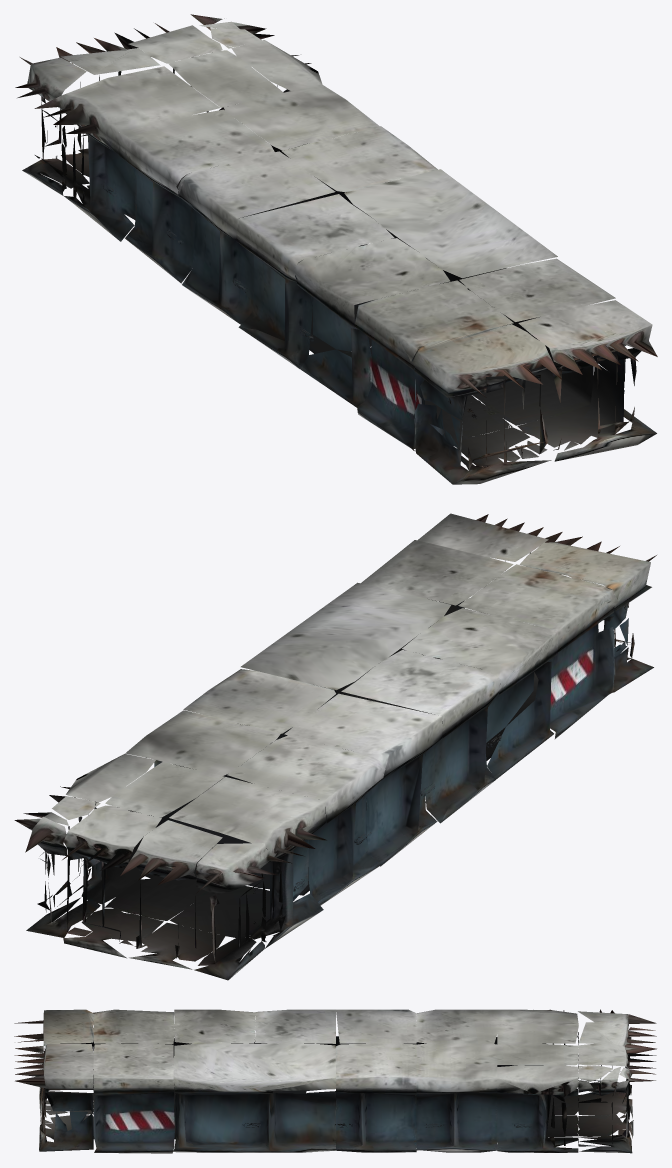
The model's file is crate.glb.
3 renders of one model, top to bottom at view 1: azimuth 30°, elevation 25°; view 2: azimuth 150°, elevation 25°; view 3: azimuth 270°, elevation 25°, orthographic. The views are drawn at different scales.
Visible parts, largest first — view 1: Mesh; view 2: Mesh; view 3: Mesh.
Boxes of the visible parts, x1,y1,x2,y2 form: Mesh: (15,14,657,484); Mesh: (14,513,656,980); Mesh: (14,1009,656,1153).
Bounding box in the file's own units: 2.09 × 0.9 × 6.52.
Materials: 1 (1 with a texture image).
